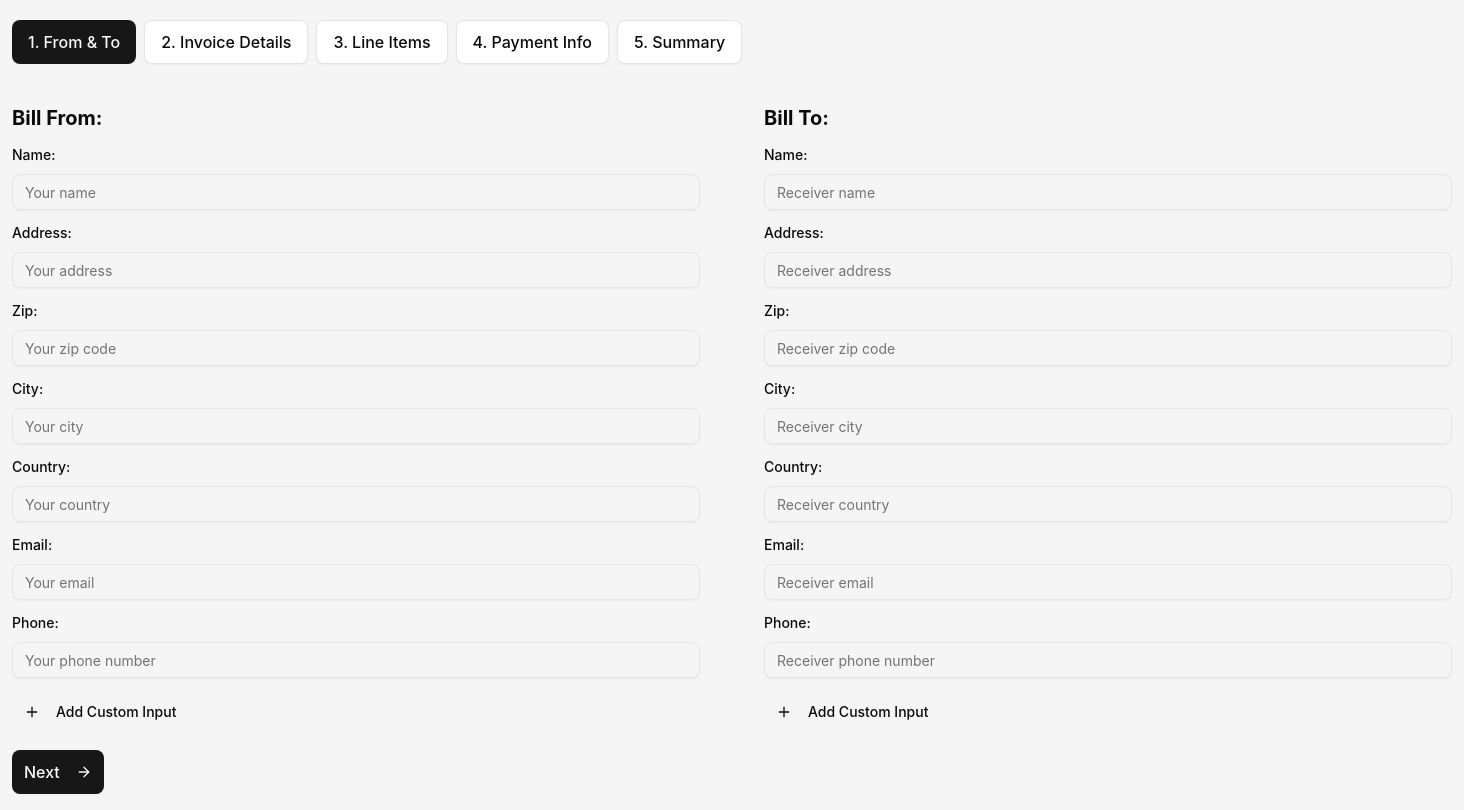
InvoiceInfo › navigates directly to Summary (page 4) when that tab button is clicked
The width and height of the screenshot is (1464, 810).
Click the button "5. Summary": {"x": 680, "y": 42} [617,20,742,64]
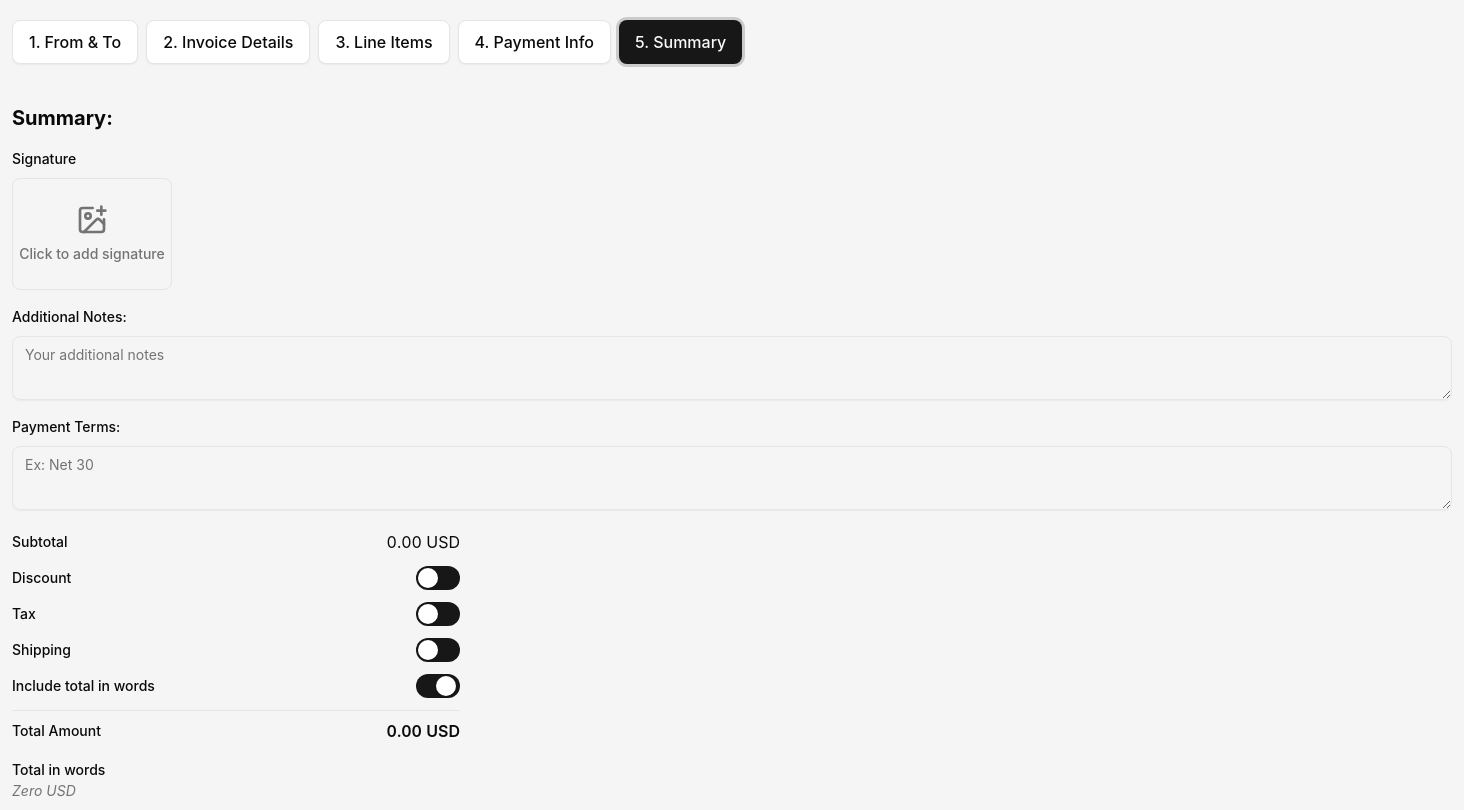
expect the heading "Summary:" is shown: met, box [12,106,113,130]
